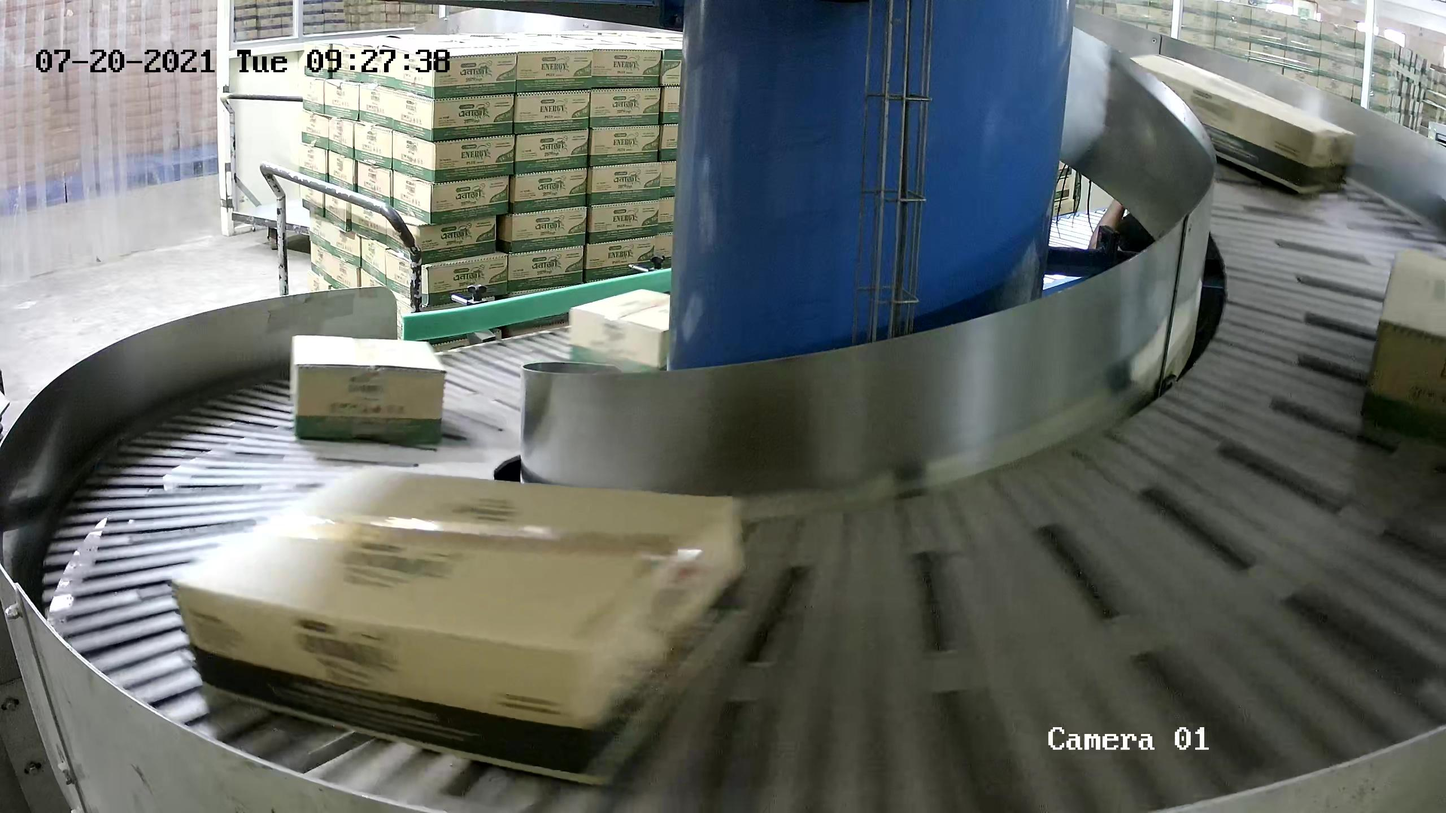Box: (167, 464, 755, 787), (1119, 51, 1357, 199), (289, 335, 447, 445), (1360, 247, 1446, 449), (566, 288, 710, 382)
